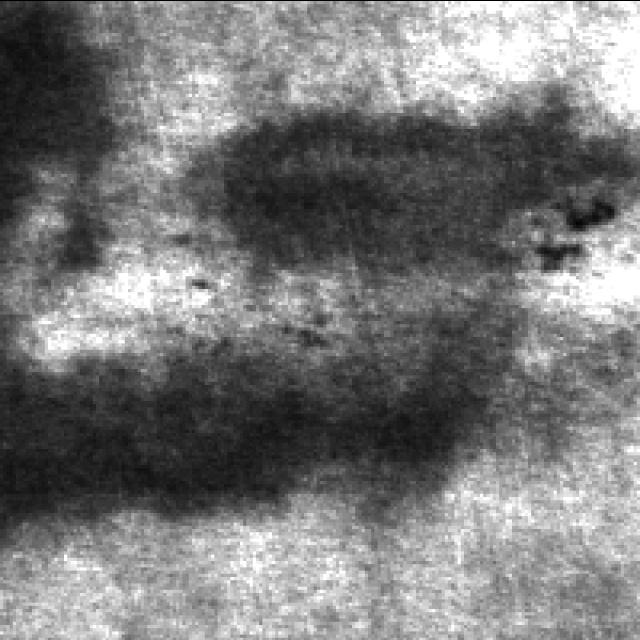patches: (0, 292, 518, 570), (182, 78, 640, 296), (0, 9, 122, 262)
